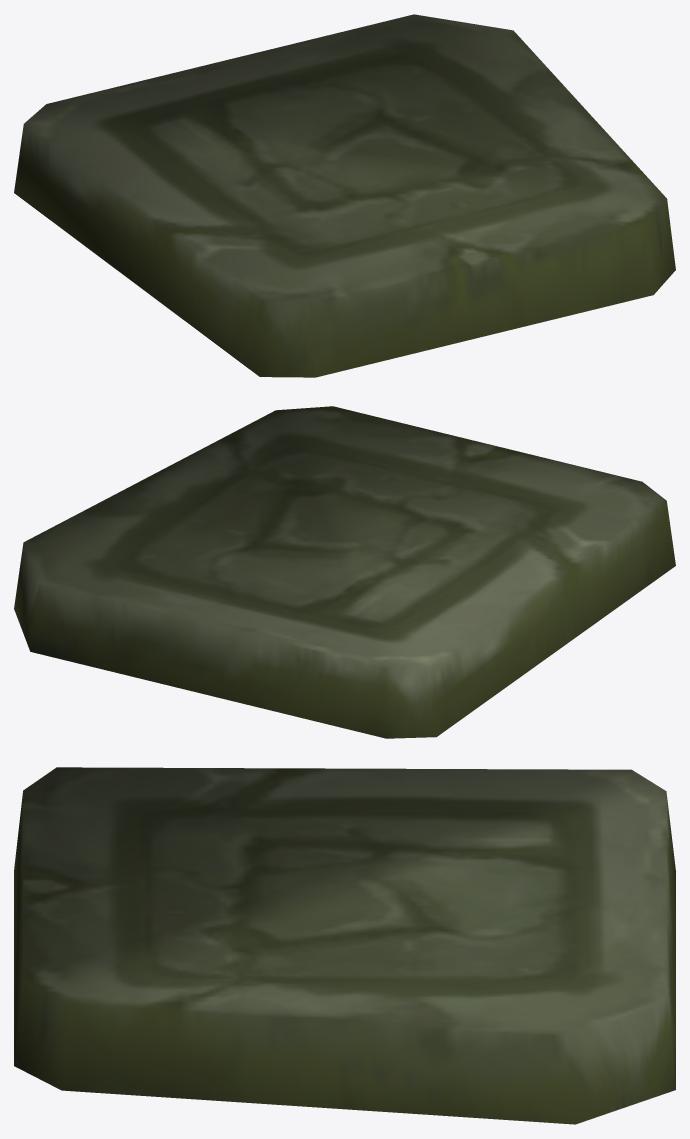
The model's file is yw_shanlin_tile_001.FBX.
3 views of the same model, one above another, from view 1: azimuth 30°, elevation 25°; view 2: azimuth 150°, elevation 25°; view 3: azimuth 270°, elevation 25° (orthographic). The views are drawn at different scales.
Parts seen in each view (by area): view 1: yw_shanlin_tile_001; view 2: yw_shanlin_tile_001; view 3: yw_shanlin_tile_001.
Boxes of the visible parts, x1,y1,x2,y2 form: yw_shanlin_tile_001: (14,14,675,377); yw_shanlin_tile_001: (14,406,675,738); yw_shanlin_tile_001: (14,767,675,1124).
Bounding box in the file's own units: 515 × 519 × 71.91.
